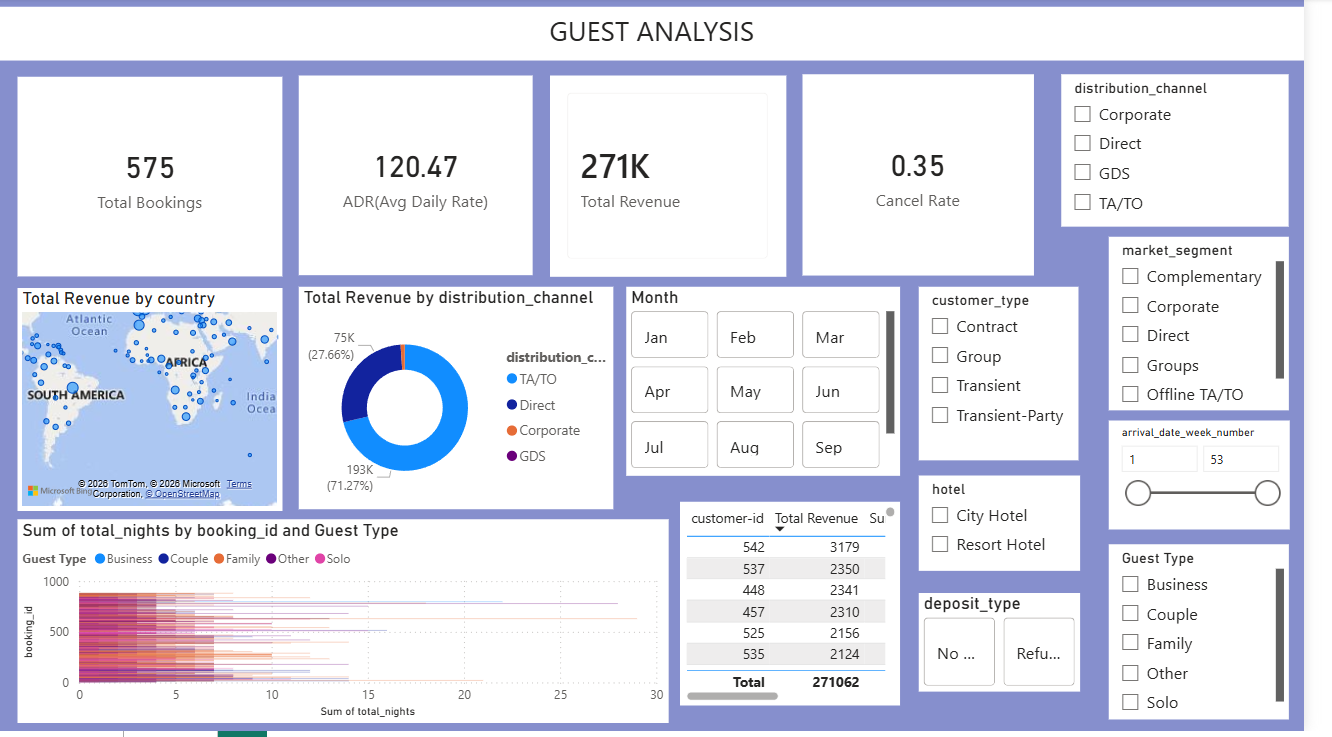

The page's visual inventory and layout, read from the dashboard file:
{"tool":"powerbi","page":{"name":"Page 1","canvas":[1280,720],"ordinal":0},"visuals":[{"type":"map","fields":{"Category":["Customer-dimension.country"],"Size":["Raw_Fact.Total Revenue"]},"box":[17.1,284.3,260,218.6],"z":0},{"type":"donutChart","fields":{"Category":["Raw_Fact.distribution_channel"],"Y":["Raw_Fact.Total Revenue"]},"box":[292.9,282.9,308.6,218.6],"z":1000},{"type":"clusteredBarChart","fields":{"Category":["Raw_Fact.booking_id"],"Y":["Sum(Raw_Fact.total_nights)"],"Series":["Raw_Fact.Guest Type"]},"box":[17.2,511.7,639.3,200],"z":2000},{"type":"tableEx","fields":{"Values":["Customer-dimension.customer-id","Raw_Fact.Total Revenue","Sum(Raw_Fact.total_nights)","Sum(Raw_Fact.is_canceled)"]},"box":[667.5,494.5,216,200],"z":3000},{"type":"cardVisual","fields":{"Data":["Raw_Fact.Total Revenue"]},"box":[539.9,76.1,231.9,197.5],"z":4000},{"type":"card","fields":{"Values":["Raw_Fact.Total Bookings"]},"box":[17.2,77.3,260.1,196.3],"z":5000},{"type":"card","fields":{"Values":["Raw_Fact.ADR(Avg Daily Rate)"]},"box":[293.3,76.1,229.4,196.3],"z":6000},{"type":"textbox","box":[0,8.6,1279.8,52.8],"z":7000},{"type":"advancedSlicerVisual","fields":{"Values":["date-dimension.Date Hierarchy.Month"]},"box":[614.7,283.4,268.7,185.3],"z":8000},{"type":"slicer","fields":{"Values":["Raw_Fact.arrival_date_week_number"]},"box":[1088.3,414.7,176.7,106.7],"z":9000},{"type":"slicer","fields":{"Values":["Raw_Fact.hotel"]},"box":[901.8,468.7,158.3,93.3],"z":10000},{"type":"slicer","fields":{"Values":["Raw_Fact.Guest Type"]},"box":[1088.3,536.2,176.7,171.8],"z":11000},{"type":"slicer","fields":{"Values":["Raw_Fact.distribution_channel"]},"box":[1041.7,74.8,223.3,149.7],"z":12000},{"type":"slicer","fields":{"Values":["Raw_Fact.market_segment"]},"box":[1088.3,234.4,176.7,170.6],"z":13000},{"type":"slicer","fields":{"Values":["Raw_Fact.customer_type"]},"box":[901.8,283.4,157.1,170.6],"z":14000},{"type":"advancedSlicerVisual","fields":{"Values":["Raw_Fact.deposit_type"]},"box":[901.8,584.1,158.3,96.9],"z":15000},{"type":"card","fields":{"Values":["Customer-dimension.Cancel Rate"]},"box":[787.7,74.8,227,197.5],"z":16000}]}

Visuals, with their boxes in screenshot pixels (x1, y1, x2, y2), scaled from the page's 1280x720 canvas onto the 1332x737 screenshot:
map - Customer-dimension.country x Raw_Fact.Total Revenue: bbox=(18, 291, 288, 515)
donutChart - Raw_Fact.distribution_channel x Raw_Fact.Total Revenue: bbox=(305, 290, 626, 513)
clusteredBarChart - Raw_Fact.booking_id x Sum(Raw_Fact.total_nights): bbox=(18, 524, 683, 729)
tableEx - Customer-dimension.customer-id x Raw_Fact.Total Revenue: bbox=(695, 506, 919, 711)
cardVisual - Raw_Fact.Total Revenue: bbox=(562, 78, 803, 280)
card - Raw_Fact.Total Bookings: bbox=(18, 79, 289, 280)
card - Raw_Fact.ADR(Avg Daily Rate): bbox=(305, 78, 544, 279)
textbox: bbox=(0, 9, 1331, 63)
advancedSlicerVisual - date-dimension.Date Hierarchy.Month: bbox=(640, 290, 919, 480)
slicer - Raw_Fact.arrival_date_week_number: bbox=(1133, 424, 1316, 534)
slicer - Raw_Fact.hotel: bbox=(938, 480, 1103, 575)
slicer - Raw_Fact.Guest Type: bbox=(1133, 549, 1316, 725)
slicer - Raw_Fact.distribution_channel: bbox=(1084, 77, 1316, 230)
slicer - Raw_Fact.market_segment: bbox=(1133, 240, 1316, 415)
slicer - Raw_Fact.customer_type: bbox=(938, 290, 1102, 465)
advancedSlicerVisual - Raw_Fact.deposit_type: bbox=(938, 598, 1103, 697)
card - Customer-dimension.Cancel Rate: bbox=(820, 77, 1056, 279)
